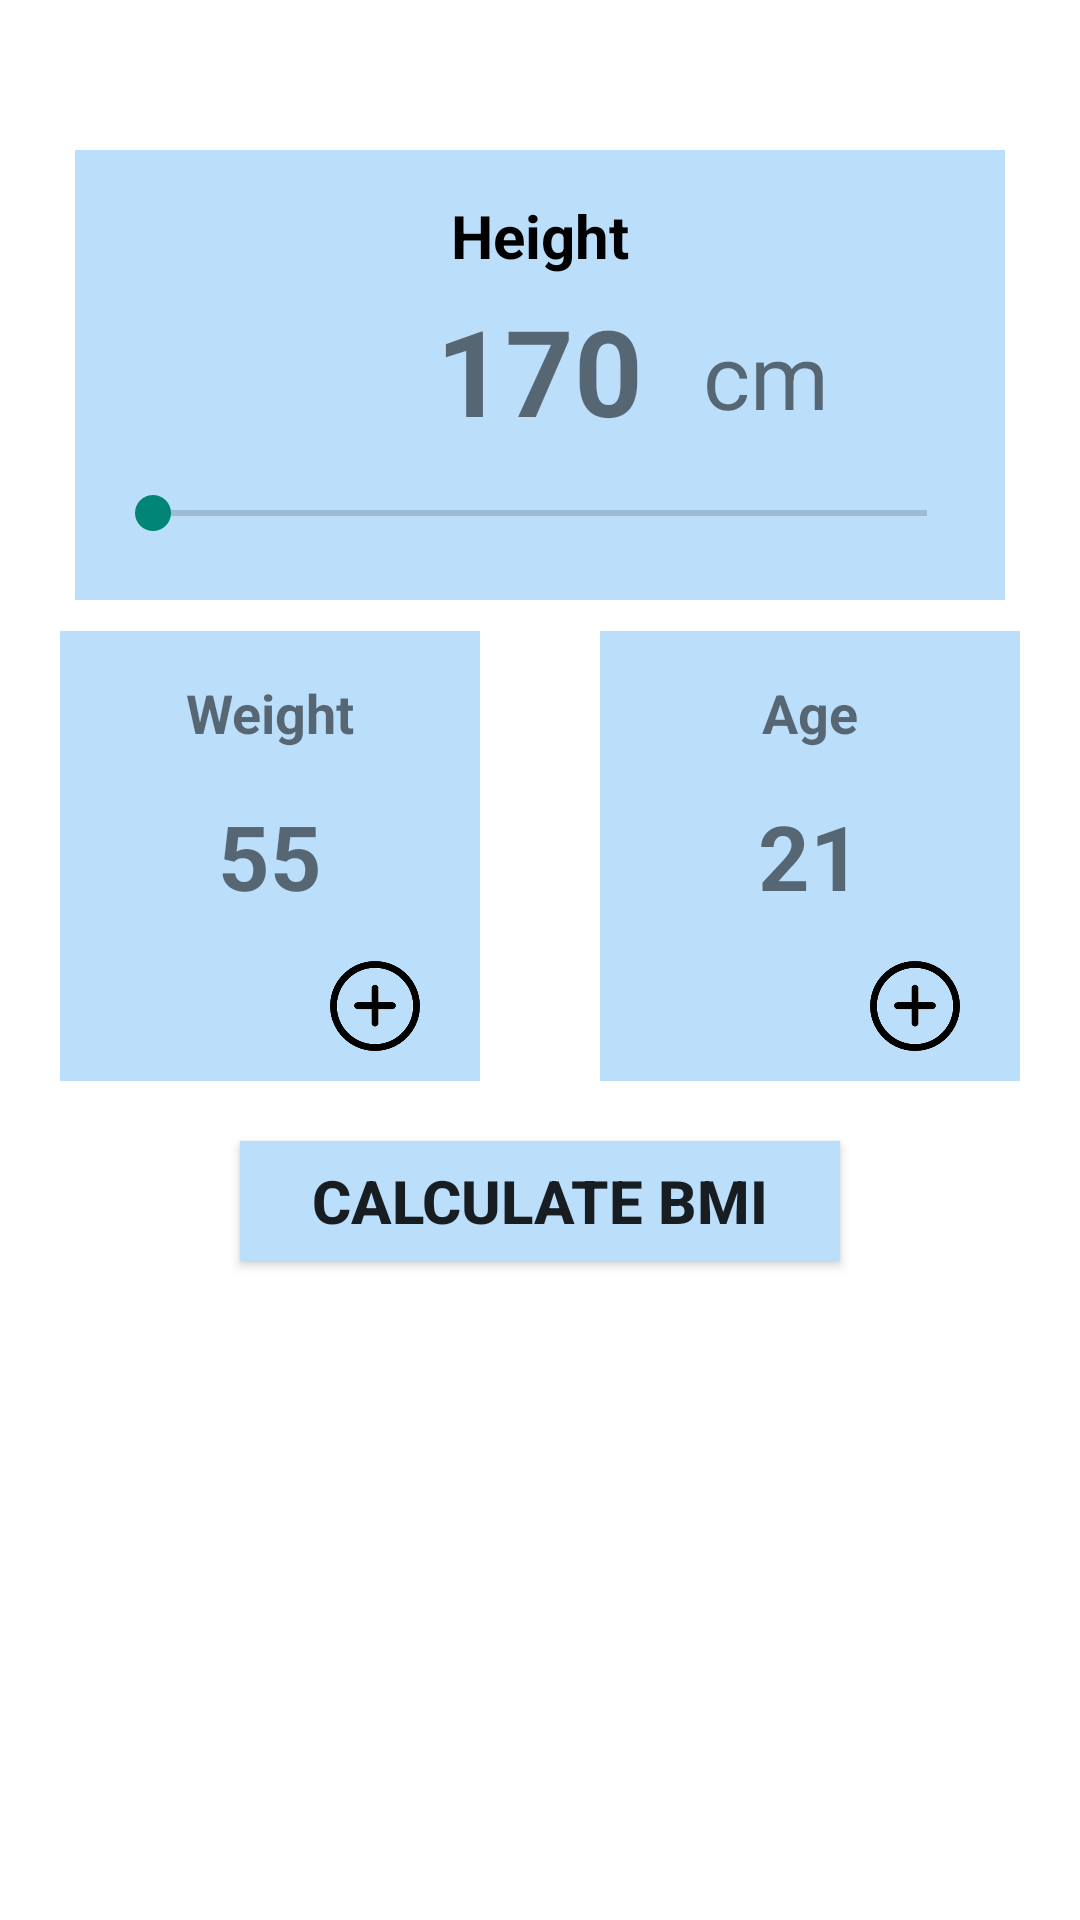

Icons on this 1080 x 1920 Android screen, each with its box as (x1, y1, x2, y2):
bmi add: (330, 961, 420, 1051), (870, 961, 960, 1051)
